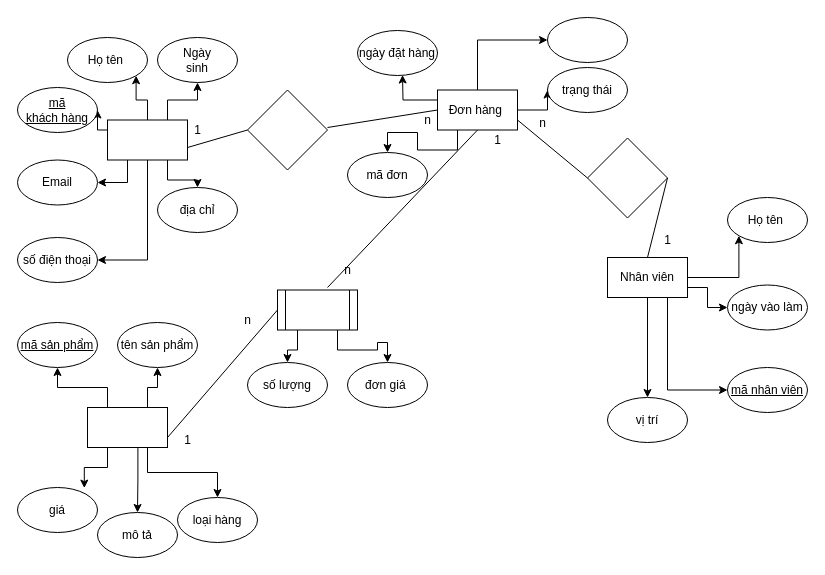
Some shapes in this 825 by 575 pixel diagram are drawn without their labels. The shapes that lost their labels are listed below. From the top down, each one's box as (x1, y1, x2, y2) in pixels, then its label:
(546, 16, 628, 62): tổng tiền
(106, 119, 188, 160): Khách hàng
(246, 89, 328, 170): Đặt
(586, 137, 668, 218): Xử lý
(276, 289, 358, 330): Chi tiết đơn hàng
(86, 406, 168, 448): Sản phẩm
